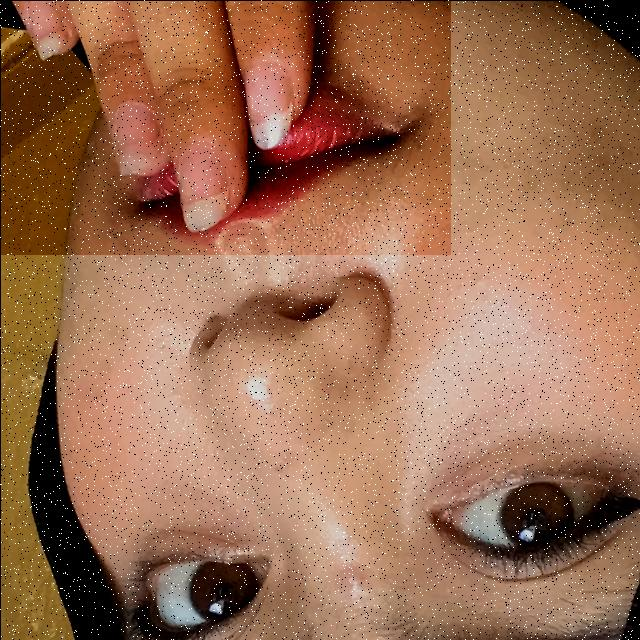ganteng: (0, 0, 450, 254)
